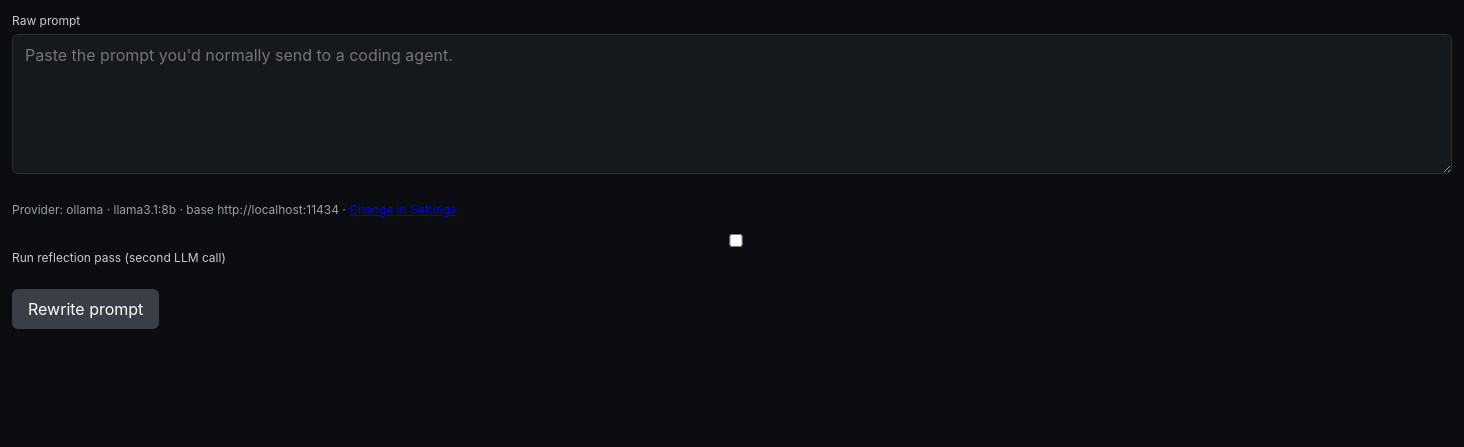
Test: <EnhanceForm /> › submits to /api/enhance and renders the rewritten prompt in a <pre> on 200
In the text box labelled "Raw prompt": (732, 104) [12,34,1452,174], type "this is a long enough prompt"
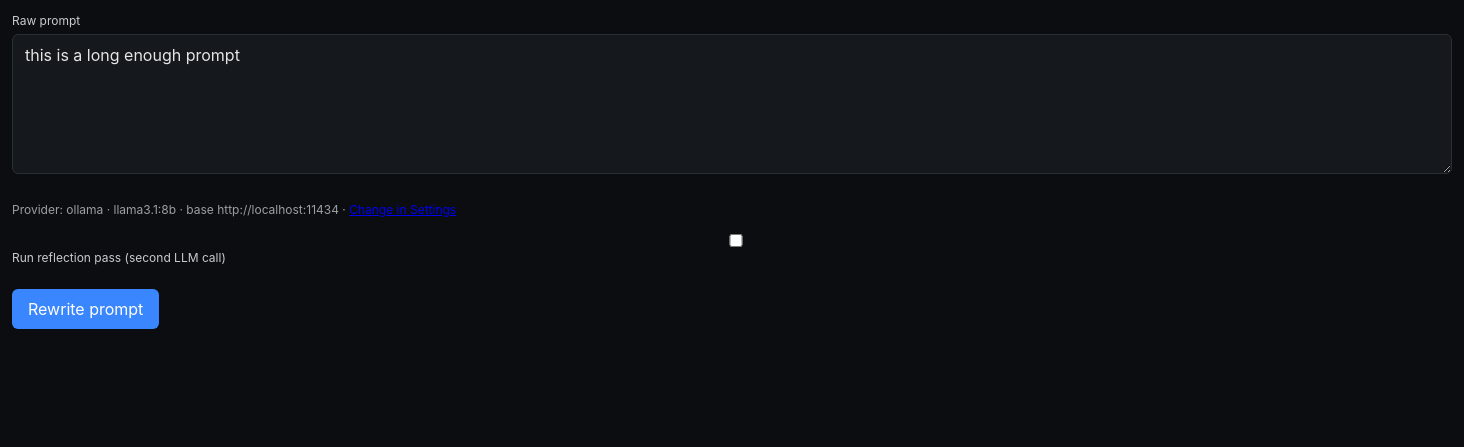
Click the button "Rewrite prompt": click(86, 309) [12,289,159,329]
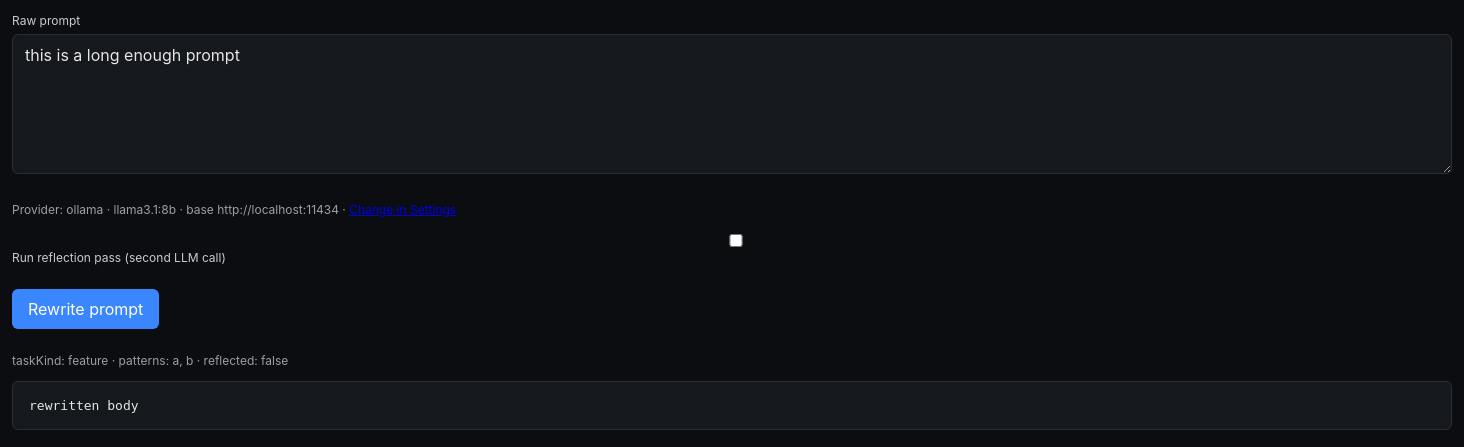
Now the text "rewritten body" is shown, box [12,381,1452,430]
